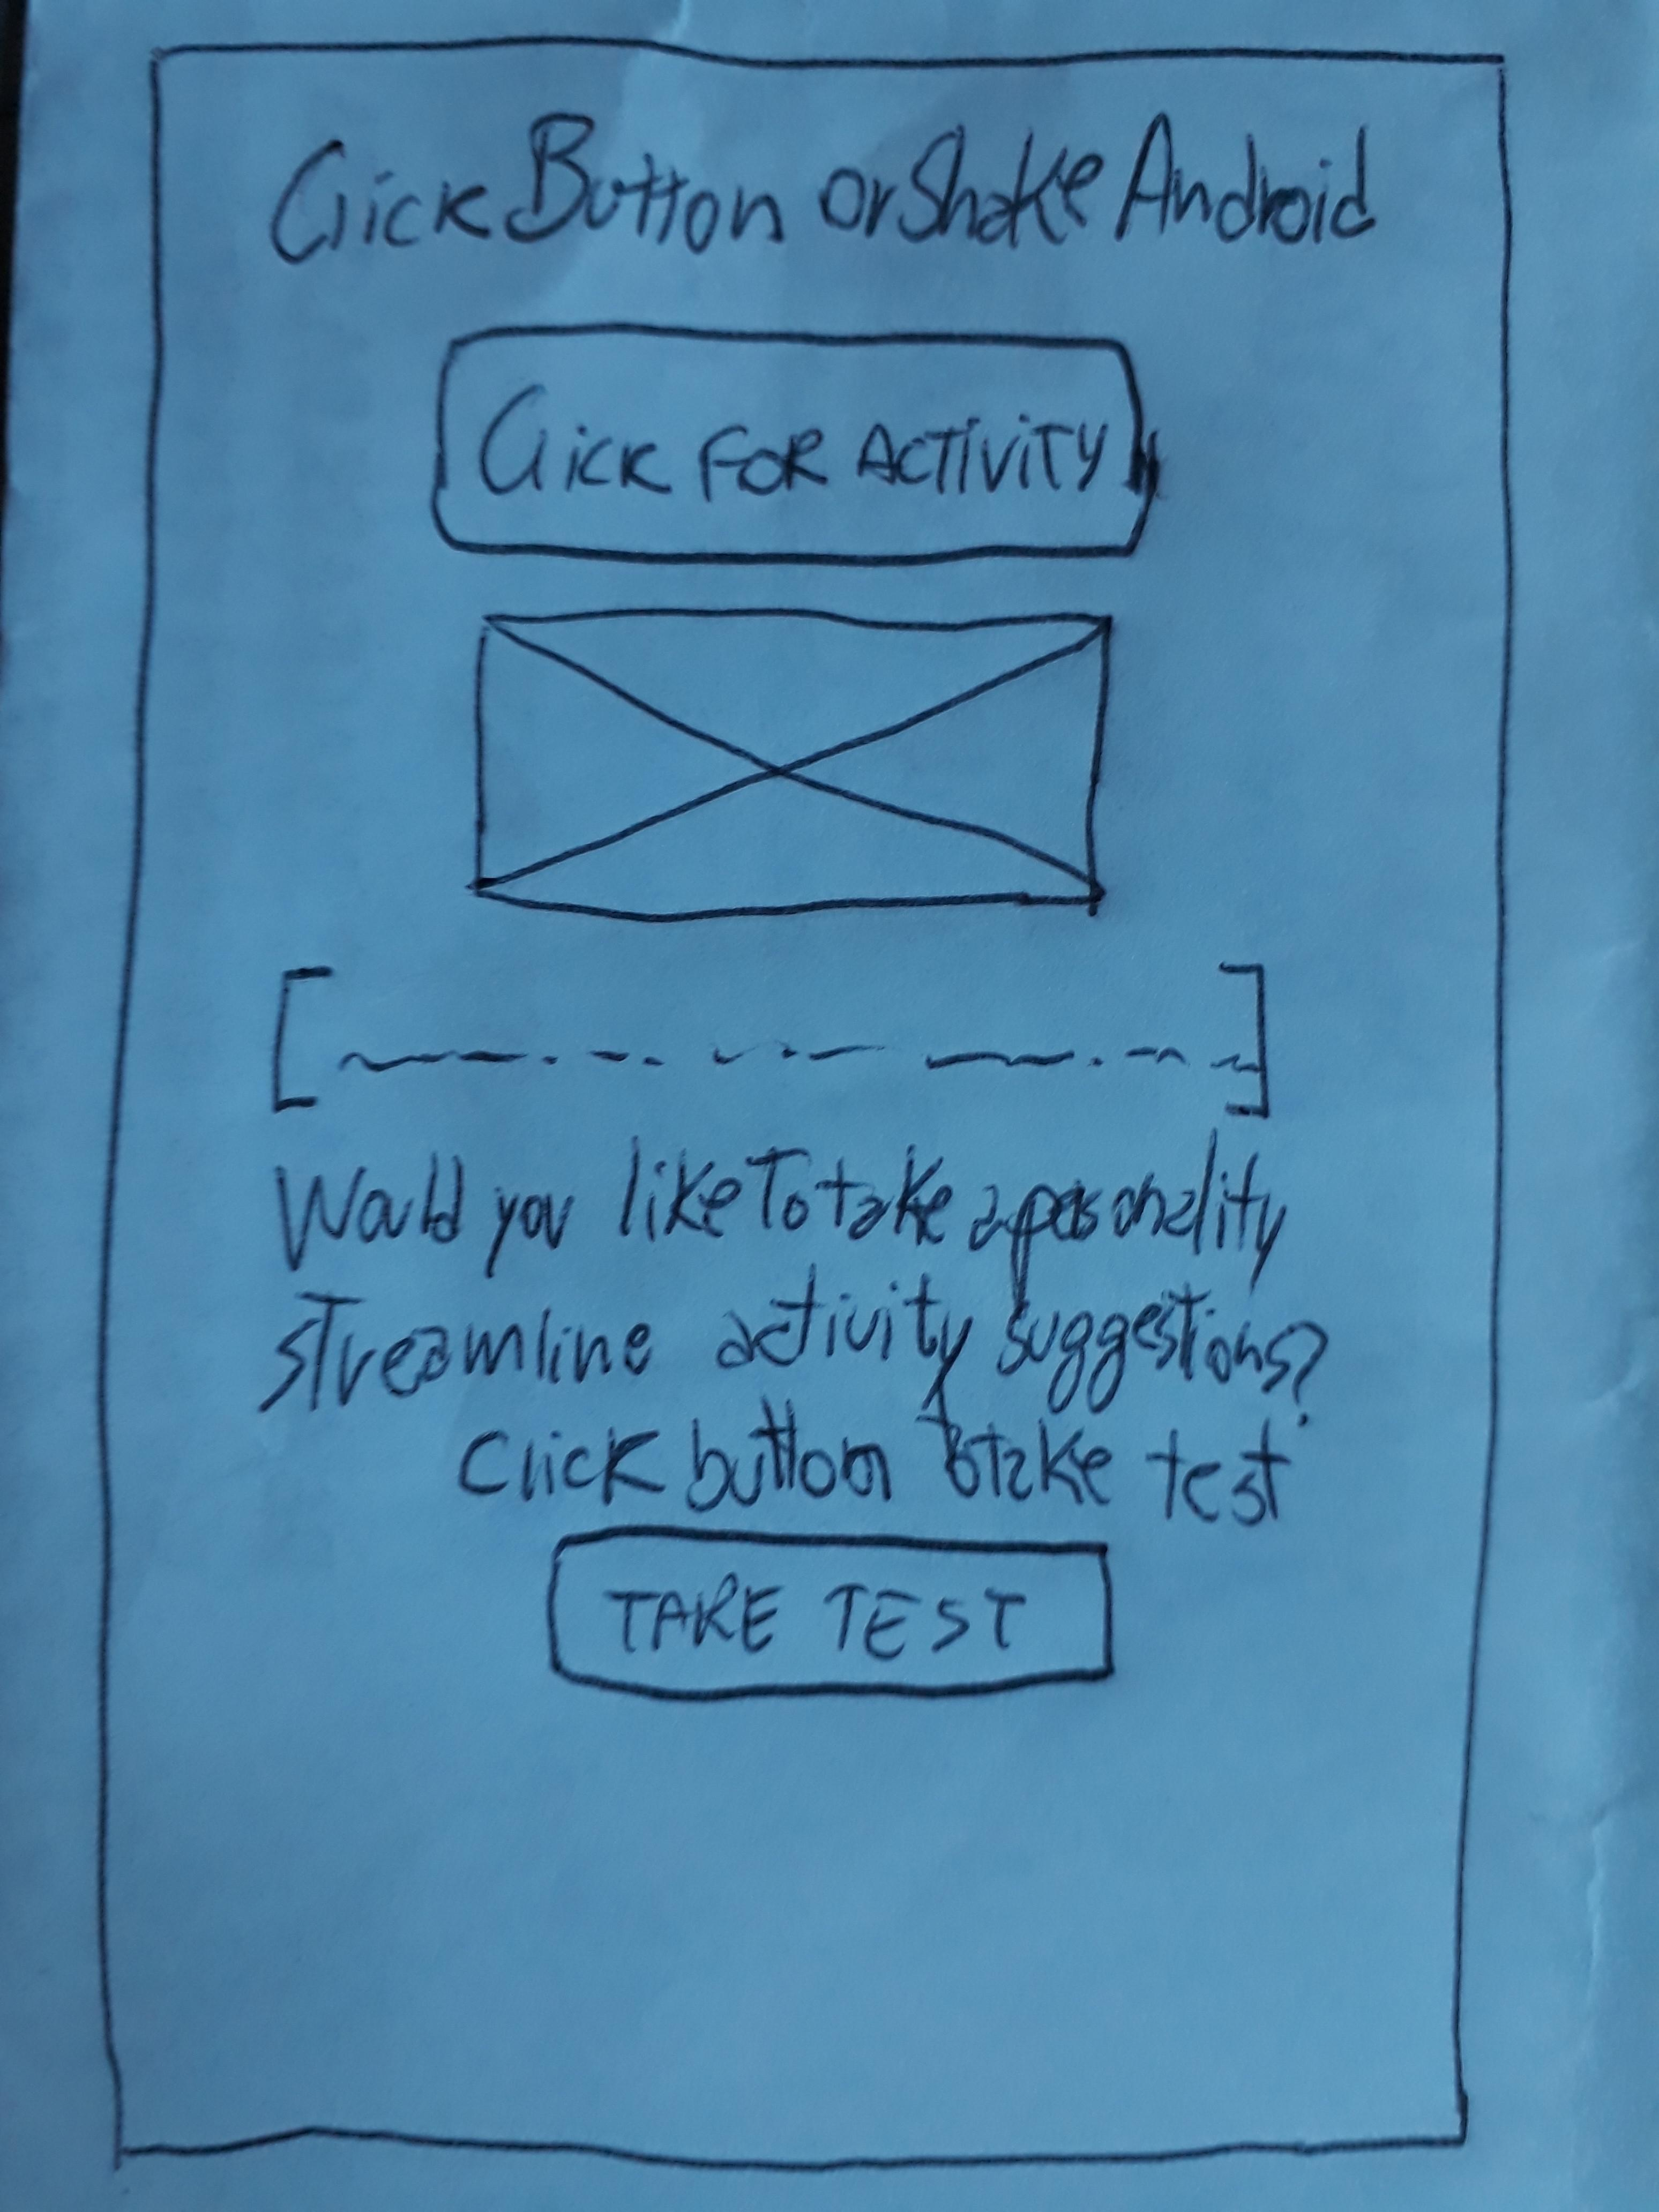Button: (432, 317, 1157, 570), (545, 1521, 1114, 1705)
Image: (474, 606, 1115, 923)
Label: (268, 1137, 1333, 1428), (268, 110, 1382, 266), (274, 963, 1274, 1125), (457, 1402, 1290, 1531)
Screen: (94, 38, 1516, 2153)
